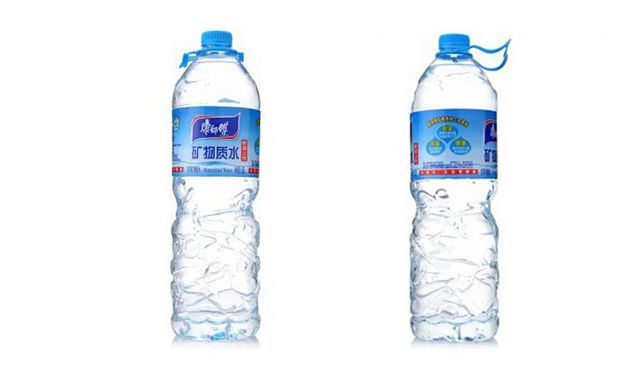amwater: (386, 23, 523, 352), (147, 14, 281, 348)
